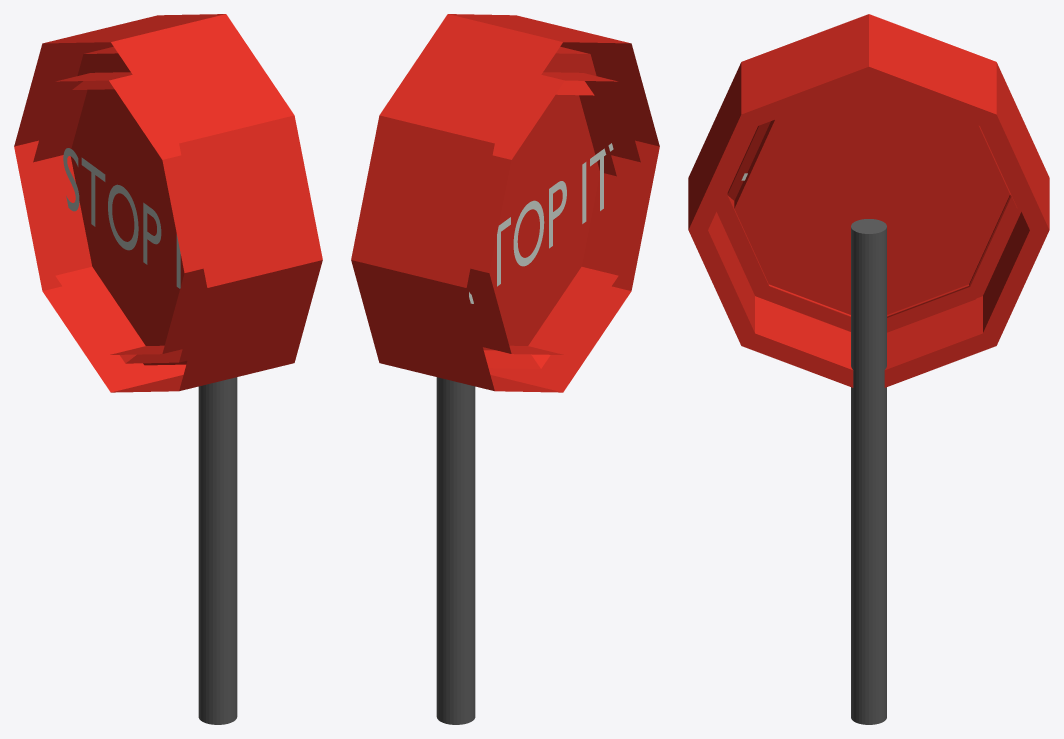
Rendered from StopSign.fbx.
The picture shows the model from 3 angles, left to right: view 1: azimuth 30°, elevation 25°; view 2: azimuth 150°, elevation 25°; view 3: azimuth 270°, elevation 25°; orthographic projection. The views are drawn at different scales.
Visible parts, largest first — view 1: Cylinder.001, Text; view 2: Cylinder.001, Text; view 3: Cylinder.001.
Part boxes in pixels (<box>): Cylinder.001: <box>14,14,322,724</box>; Text: <box>63,148,180,288</box>; Cylinder.001: <box>351,14,659,724</box>; Text: <box>469,143,613,303</box>; Cylinder.001: <box>688,14,1049,724</box>.
Size of the model in its own units: 7.52 by 40 by 20.
